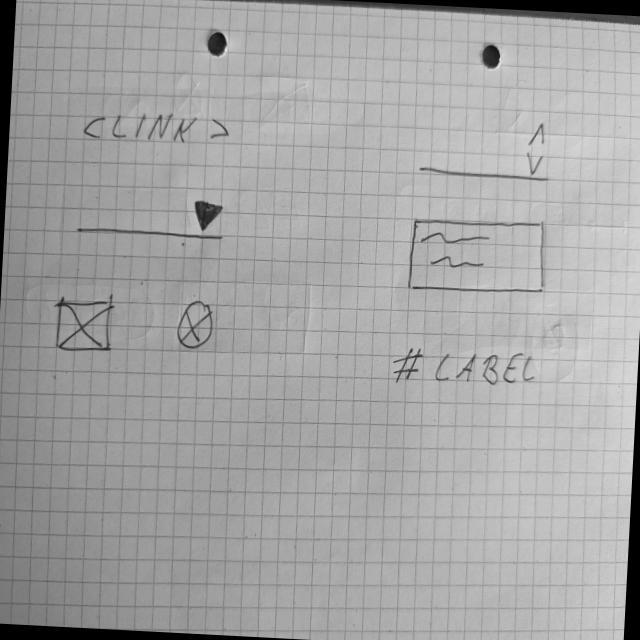image: (54, 291, 117, 359), (175, 299, 217, 353)
label: (392, 345, 540, 393)
link: (83, 109, 235, 151)
number-input: (417, 113, 557, 187)
select: (75, 193, 231, 245)
textarea: (406, 213, 551, 300)
